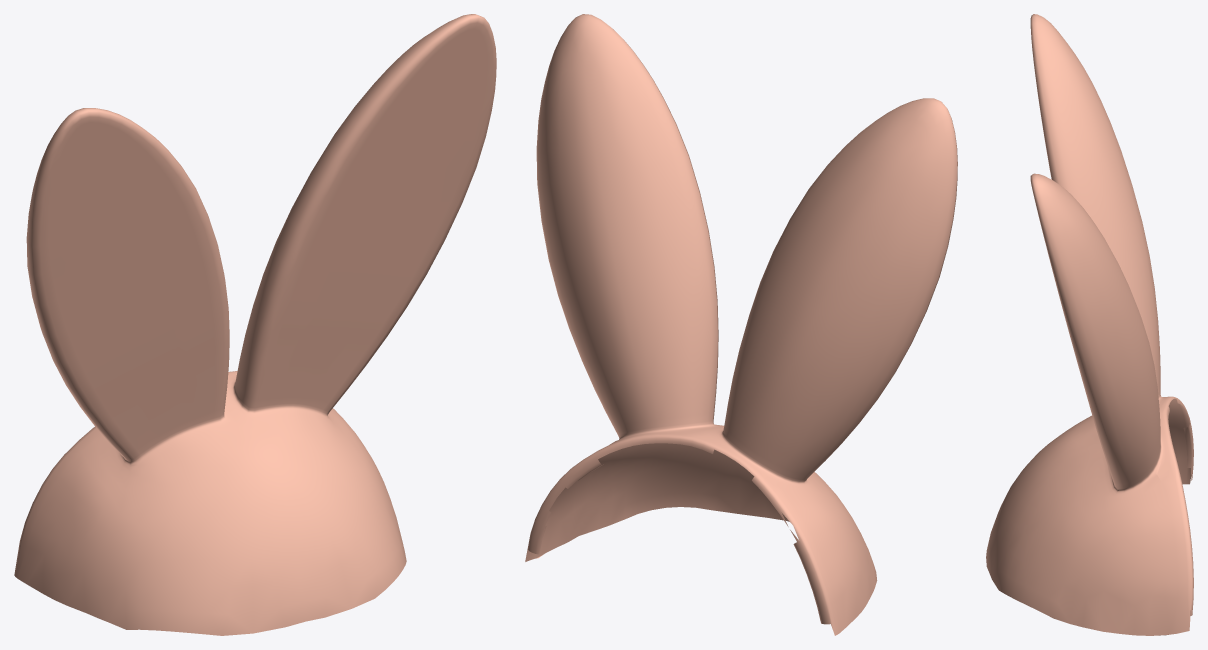
File: bunny-hat.glb
The picture shows the model from 3 angles, left to right: view 1: azimuth 30°, elevation 25°; view 2: azimuth 150°, elevation 25°; view 3: azimuth 270°, elevation 25°; orthographic projection. The views are drawn at different scales.
Visible parts, largest first — view 1: Bunny_Mask.001; view 2: Bunny_Mask.001; view 3: Bunny_Mask.001.
Part boxes in pixels (box(x1,y1,x2,y2)): Bunny_Mask.001: box(14, 14, 496, 635); Bunny_Mask.001: box(525, 14, 957, 635); Bunny_Mask.001: box(986, 14, 1193, 635).
Bounding box in the file's own units: 0.6385 × 0.7241 × 0.2917.
1 material, 1 textured.
